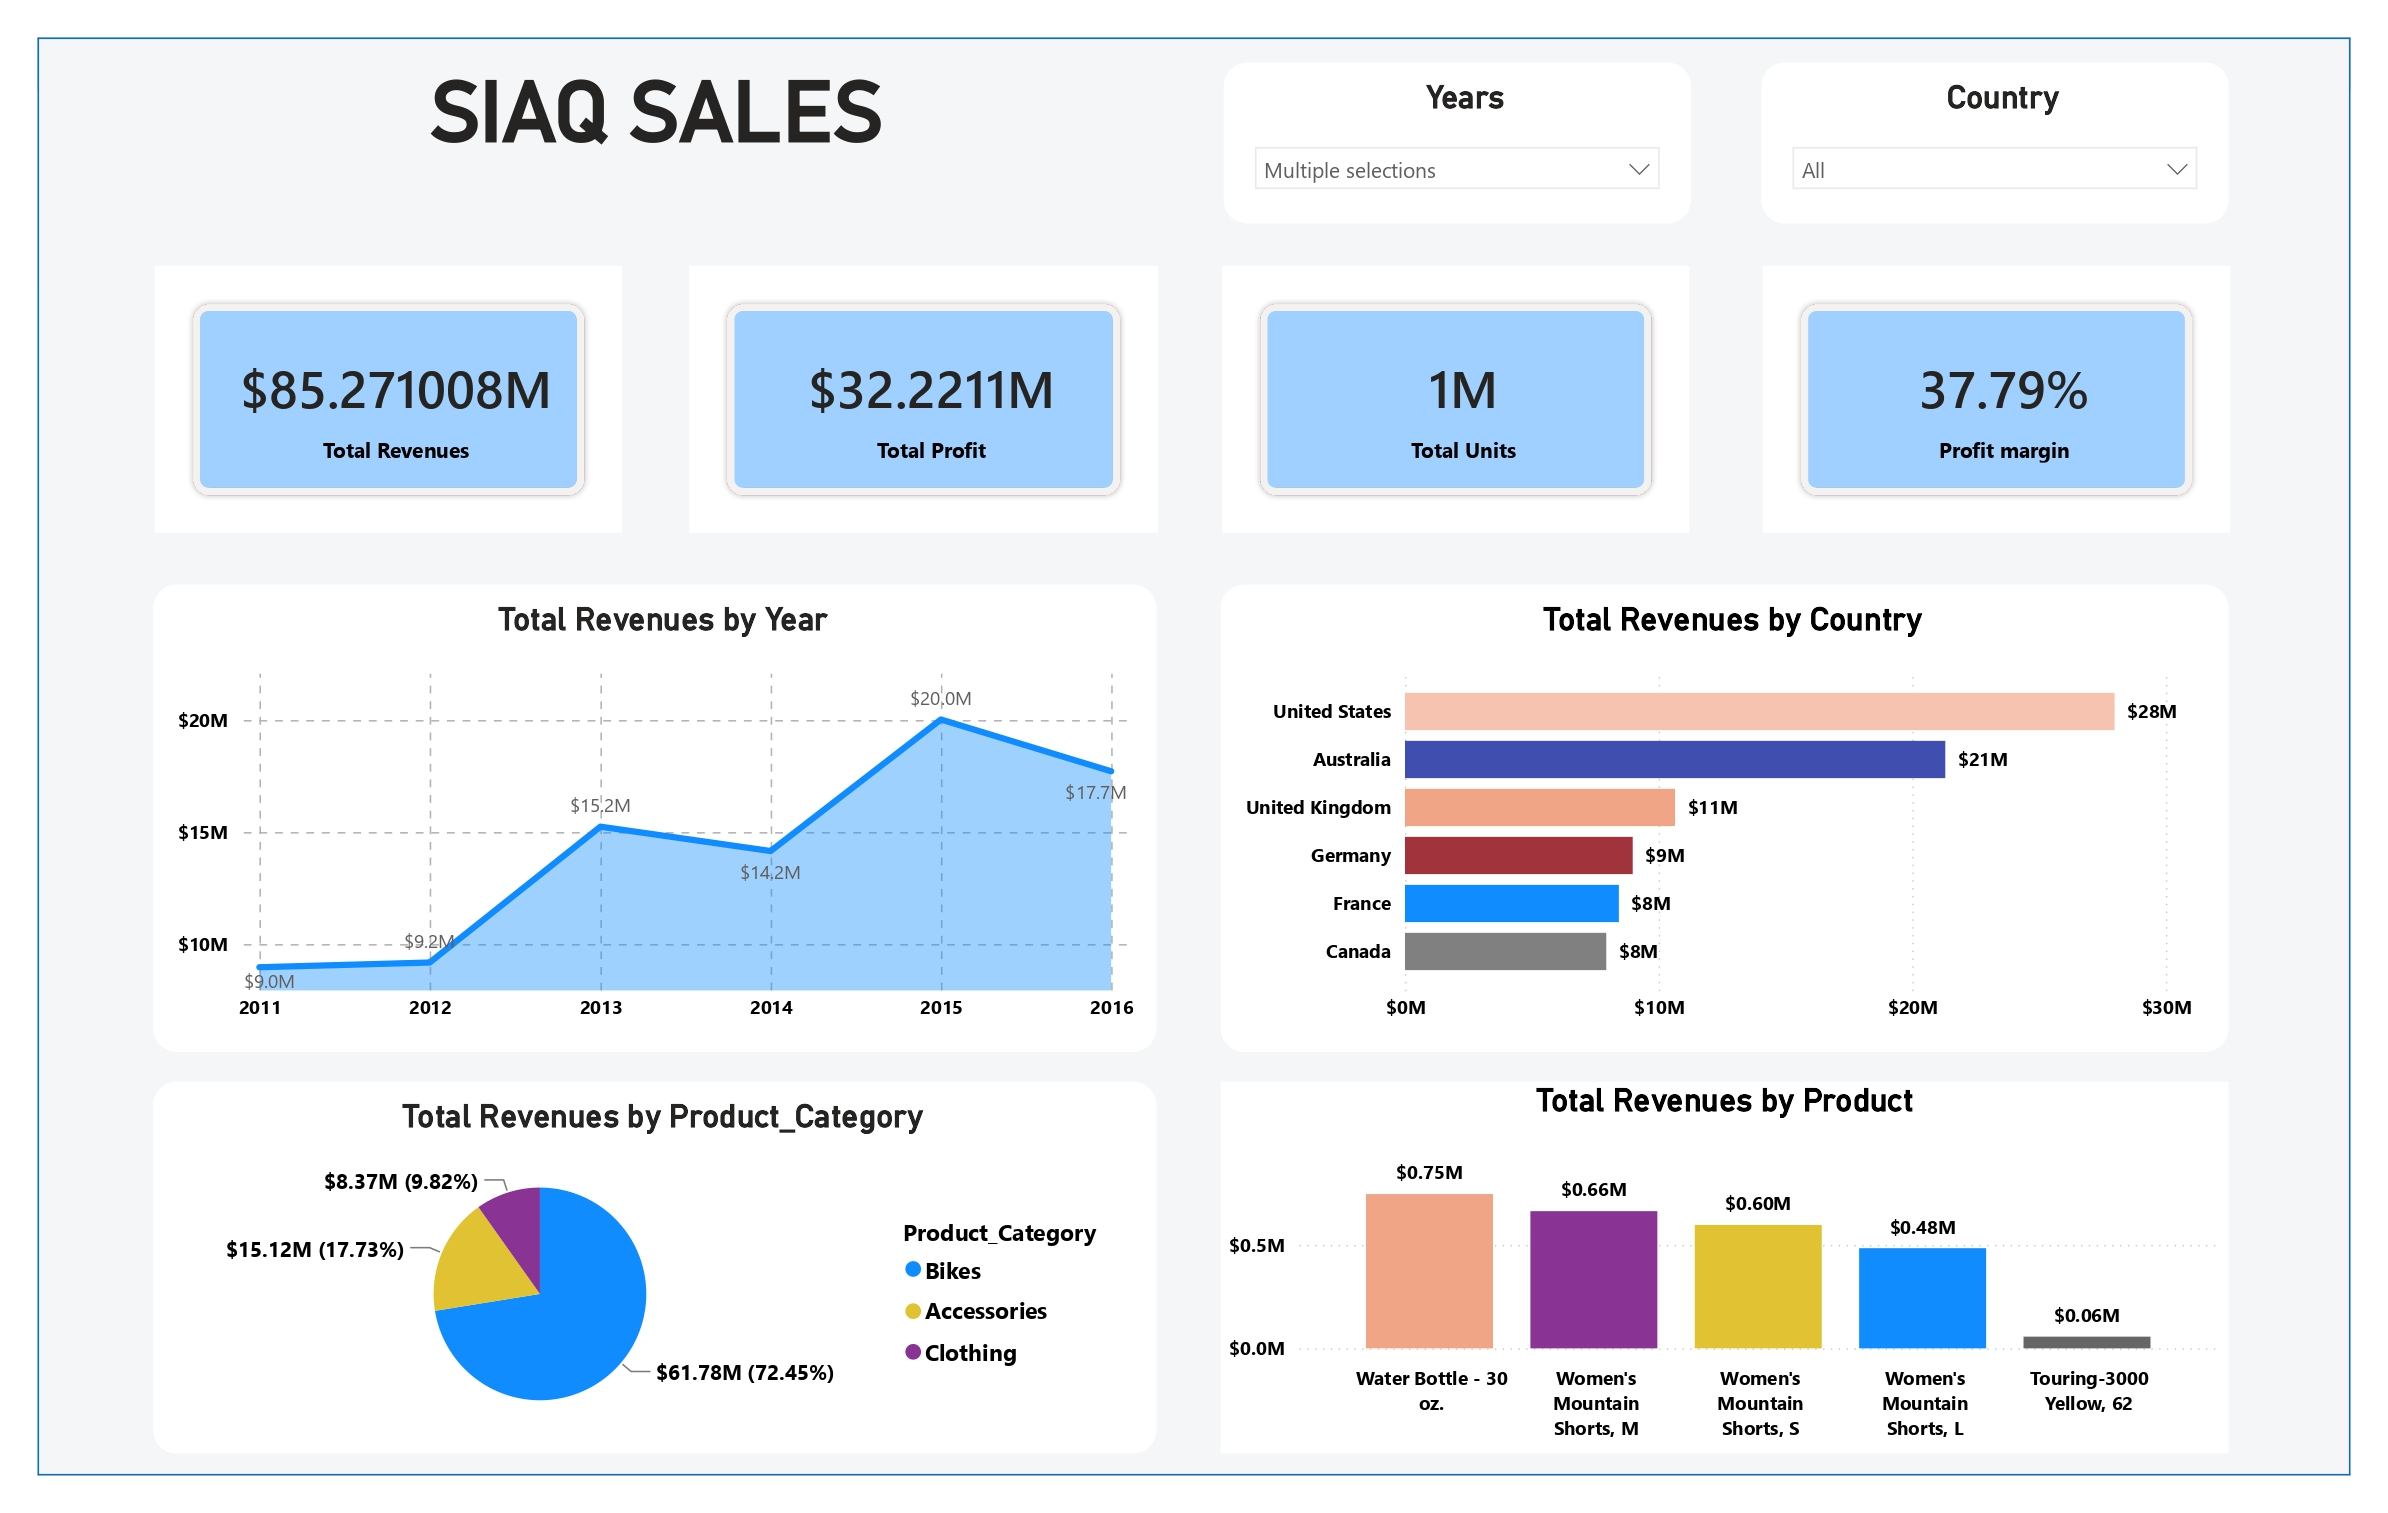

The dashboard page shown, as its layout file describes it:
{"tool":"powerbi","page":{"name":"Page 1","canvas":[1480,920],"ordinal":0},"visuals":[{"type":"shape","box":[0,0,1480,920.3],"z":0},{"type":"cardVisual","fields":{"Data":["Sales.Total Revenues"]},"box":[75,145.7,299.4,171.1],"z":1000},{"type":"cardVisual","fields":{"Data":["Sales.Total Units"]},"box":[757.6,145.7,299.4,171.1],"z":2000},{"type":"cardVisual","fields":{"Data":["Sales.Total Profit"]},"box":[417.2,145.7,299.4,171.1],"z":3000},{"type":"cardVisual","fields":{"Data":["Sales.Profit margin"]},"box":[1103.5,145.7,299.4,171.1],"z":4000},{"type":"areaChart","fields":{"Category":["Sales.Start of Month.Variation.Date Hierarchy.Year","Sales.Start of Month.Variation.Date Hierarchy.Quarter","Sales.Start of Month.Variation.Date Hierarchy.Month","Sales.Start of Month.Variation.Date Hierarchy.Day"],"Y":["Sales.Total Revenues"]},"box":[74.4,349.7,641.7,299.4],"z":5000},{"type":"clusteredBarChart","fields":{"Category":["Sales.Country"],"Y":["Sales.Total Revenues"]},"box":[757,349.7,645.4,299.4],"z":6000},{"type":"pieChart","fields":{"Category":["Sales.Product_Category"],"Y":["Sales.Total Revenues"]},"box":[74,668,642,238],"z":6001},{"type":"columnChart","fields":{"Y":["Sales.Total Revenues"],"Category":["Sales.Product"]},"box":[757,668,645,238],"z":6002},{"type":"slicer","title":"Country","fields":{"Values":["Sales.Country"]},"box":[1103,16.4,299.4,102.3],"z":6003},{"type":"slicer","title":"Years","fields":{"Values":["Sales.Years"]},"box":[758.7,16.4,299.4,102.3],"z":6004},{"type":"textbox","title":"SIAQ SALES","box":[74.9,16.4,641.6,103],"z":6005}]}

Visuals, with their boxes on the page's 1480x920 design canvas (x1, y1, x2, y2). These are canvas units, not pixel positions in the 2388x1513 screenshot, which may show the page scaled, cropped or inside an application window:
shape: x1=0 y1=0 x2=1480 y2=920
cardVisual - Sales.Total Revenues: x1=75 y1=146 x2=374 y2=317
cardVisual - Sales.Total Units: x1=758 y1=146 x2=1057 y2=317
cardVisual - Sales.Total Profit: x1=417 y1=146 x2=717 y2=317
cardVisual - Sales.Profit margin: x1=1104 y1=146 x2=1403 y2=317
areaChart - Sales.Start of Month.Variation.Date Hierarchy.Year x Sales.Start of Month.Variation.Date Hierarchy.Quarter: x1=74 y1=350 x2=716 y2=649
clusteredBarChart - Sales.Country x Sales.Total Revenues: x1=757 y1=350 x2=1402 y2=649
pieChart - Sales.Product_Category x Sales.Total Revenues: x1=74 y1=668 x2=716 y2=906
columnChart - Sales.Total Revenues x Sales.Product: x1=757 y1=668 x2=1402 y2=906
"Country" slicer: x1=1103 y1=16 x2=1402 y2=119
"Years" slicer: x1=759 y1=16 x2=1058 y2=119
"SIAQ SALES" textbox: x1=75 y1=16 x2=716 y2=119
